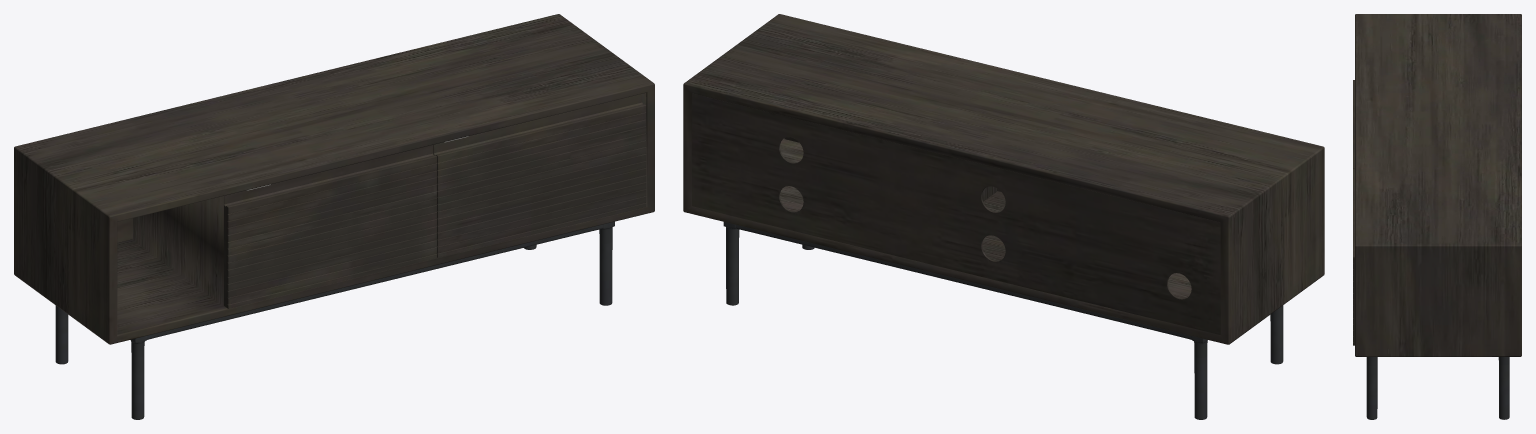
File: abo-B07HSKW3D6.glb
The picture shows the model from 3 angles, left to right: view 1: azimuth 30°, elevation 25°; view 2: azimuth 150°, elevation 25°; view 3: azimuth 270°, elevation 25°; orthographic projection. The views are drawn at different scales.
Bounding box in the file's own units: 1.3 × 0.495 × 0.4.
Materials: 1 (1 with a texture image).
